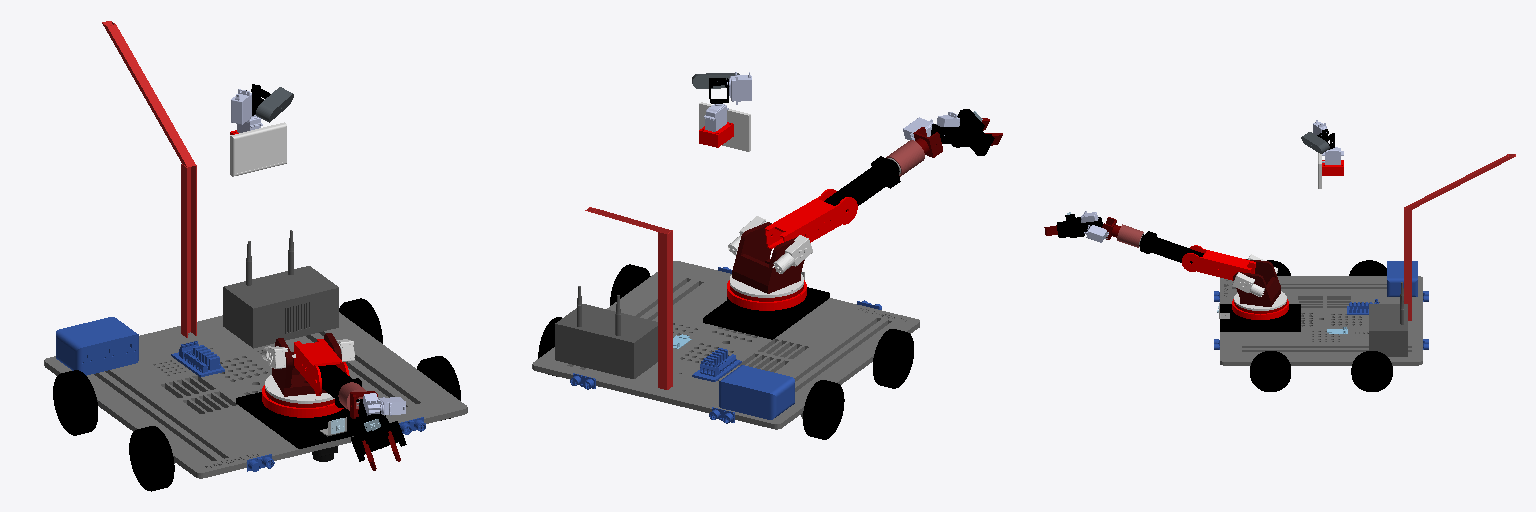
--- What the picture shows (computed from the rendered views, not written in the file) ---
The picture shows the robot from 3 angles, left to right: view 1: azimuth 30°, elevation 25°; view 2: azimuth 150°, elevation 25°; view 3: azimuth 270°, elevation 25°; orthographic projection.
Model nashbot with 57 links and 56 joints (9 revolute, 4 continuous, 2 prismatic, 41 fixed), rooted at link_base, posed all joints at 0 but 2 set to mid-range because 0 is outside their limits (gripper_slider2 = -0.0145, gripper_slider1 = -0.0145).
Links seen in each view (by area): view 1: link_base, link_jetson, link_power_line_mount, link_extension, link_display, link_wheel, link_wheel_2, link_arm_mount_base, link_arm3, link_arm2, link_pdb, link_wheel_4 (+7 smaller); view 2: link_base, link_jetson, link_extension, link_power_line_mount, link_arm2, link_arm3, link_arm_mount_base, link_wheel, link_wheel_2, link_arm4, link_display, link_pdb (+10 smaller); view 3: link_base, link_jetson, link_power_line_mount, link_arm3, link_wheel_3, link_wheel_4, link_arm2, link_arm_mount_base, link_extension, link_arm4.
Link boxes in pixels (x1,y1,x2,y2): link_base: (44,312,467,478); link_jetson: (223,230,338,348); link_power_line_mount: (102,21,196,337); link_extension: (56,317,138,375); link_display: (230,122,286,176); link_wheel: (129,426,174,491); link_wheel_2: (53,370,97,435); link_arm_mount_base: (236,392,359,448); link_arm3: (294,339,349,395); link_arm2: (272,333,341,396); link_pdb: (171,341,224,377); link_wheel_4: (417,356,460,420); link_base: (532,261,919,429); link_jetson: (555,286,657,378); link_extension: (719,365,794,419); link_power_line_mount: (585,207,672,389); link_arm2: (732,222,804,293); link_arm3: (765,189,857,248); link_arm_mount_base: (703,287,829,339); link_wheel: (873,329,913,388); link_wheel_2: (803,380,844,439); link_arm4: (824,166,887,211); link_display: (699,102,750,151); link_pdb: (692,348,741,381); link_base: (1220,276,1422,365); link_jetson: (1369,282,1407,356); link_power_line_mount: (1404,154,1515,320); link_arm3: (1182,245,1255,280); link_wheel_3: (1351,351,1392,391); link_wheel_4: (1250,351,1290,391); link_arm2: (1233,259,1280,306); link_arm_mount_base: (1220,304,1300,331); link_extension: (1387,261,1417,296); link_arm4: (1140,235,1203,263).
Size in the robot's own frame: 0.5534 by 1.16 by 0.5943 metres.
49 mesh visuals loaded from 38 distinct referenced files (36 binary STL); not drawn: 8 (file found but could not be loaded).

URDF robot description (nashbot):
<robot name="nashbot">
<link name="link_base">
<visual>
<origin xyz="-0.038894183933734866043 0.046155559346079830241 0" rpy="3.1554436208840472216e-30 -3.9443045261051879465e-29 -2.6289196771528403336e-28" />
<geometry>
<mesh filename="package://nashbot/description/link_base.stl"/>
</geometry>
<material name="link_base_material">
<color rgba="0.49803921568627451677 0.49803921568627451677 0.49803921568627451677 1.0"/>
</material>
</visual>
<collision>
<origin xyz="-0.038894183933734866043 0.046155559346079830241 0" rpy="3.1554436208840472216e-30 -3.9443045261051879465e-29 -2.6289196771528403336e-28" />
<geometry>
<mesh filename="package://nashbot/description/link_base.stl"/>
</geometry>
</collision>
<inertial>
<origin xyz="-0.036317144638637603726 0.045317821985827809461 0.0044534834689007414196" rpy="0 0 0"/>
<mass value="1.7554185880507504613" />
<inertia ixx="0.038591414973113906395" ixy="9.5265038422451096692e-05"  ixz="-1.9373757512126663555e-06" iyy="0.038219323473487644416" iyz="8.2432055649845211939e-07" izz="0.076738818657899804387" />
</inertial>
</link>

<link name="link_planetary_gear_motor">
<visual>
<origin xyz="0 0 -0.026817798965425687641" rpy="1.570796326794896558 1.570796326794896558 0" />
<geometry>
<mesh filename="package://nashbot/description/link_planetary_gear_motor.stl"/>
</geometry>
<material name="link_planetary_gear_motor_material">
<color rgba="0.58823529411764707842 0.58823529411764707842 0.6313725490196078205 1.0"/>
</material>
</visual>
<collision>
<origin xyz="0 0 -0.026817798965425687641" rpy="1.570796326794896558 1.570796326794896558 0" />
<geometry>
<mesh filename="package://nashbot/description/link_planetary_gear_motor.stl"/>
</geometry>
</collision>
<inertial>
<origin xyz="4.6360164020919494347e-11 8.8798397599322057136e-07 -0.029000518840529402459" rpy="0 0 0"/>
<mass value="0.16371460908246579513" />
<inertia ixx="4.9412215825825080682e-05" ixy="3.9662144375698252284e-13"  ixz="-2.6336340794043708182e-13" iyy="4.9418313465302970153e-05" iyz="-5.6989714436444879046e-09" izz="9.4495347188306969184e-06" />
</inertial>
</link>

<link name="link_wheel">
<visual>
<origin xyz="2.168404344971008868e-19 1.3877787807814456755e-17 0.012500000000000011102" rpy="1.570796326794896558 -0 -1.3877787807814459837e-17" />
<geometry>
<mesh filename="package://nashbot/description/link_wheel.stl"/>
</geometry>
<material name="link_wheel_material">
<color rgba="0 0 0 1.0"/>
</material>
</visual>
<collision>
<origin xyz="2.168404344971008868e-19 1.3877787807814456755e-17 0.012500000000000011102" rpy="1.570796326794896558 -0 -1.3877787807814459837e-17" />
<geometry>
<mesh filename="package://nashbot/description/link_wheel.stl"/>
</geometry>
</collision>
<inertial>
<origin xyz="-1.4309925165506553296e-18 9.7240667122958685928e-18 8.6736173798840354721e-18" rpy="0 0 0"/>
<mass value="0.21292341699643807518" />
<inertia ixx="0.00015092828535447894004" ixy="0"  ixz="-1.0199903934024893819e-37" iyy="0.00015092828535447894004" iyz="1.1610533830809600892e-35" izz="0.00027967704810516230869" />
</inertial>
</link>

<joint name="front_right_wheel" type="continuous">
<origin xyz="1.3877787807814456755e-17 0.00013236607255473313571 0.024200000000000054801" rpy="-2.424069566570910828e-15 -1.3601736821082903874e-14 1.4496119042768058627" />
<parent link="link_planetary_gear_motor" />
<child link="link_wheel" />
<axis xyz="0 0 1"/>
<limit effort="1" velocity="20" />
<joint_properties friction="0.0"/>
</joint>

<joint name="front_right_motor_mount" type="fixed">
<origin xyz="-0.27889418393372578109 -0.078844440653917546857 -0.0099999999999997868372" rpy="-1.570796326794896558 -6.3108872417683060394e-30 1.570796326794896558" />
<parent link="link_base" />
<child link="link_planetary_gear_motor" />
<axis xyz="0 0 1"/>
<limit effort="1" velocity="20" />
<joint_properties friction="0.0"/>
</joint>

<link name="link_planetary_gear_motor_2">
<visual>
<origin xyz="-0.0067500000000000059952 0 -0.026817798965425743152" rpy="1.570796326794896558 1.570796326794896558 0" />
<geometry>
<mesh filename="package://nashbot/description/link_planetary_gear_motor.stl"/>
</geometry>
<material name="link_planetary_gear_motor_material">
<color rgba="0.58823529411764707842 0.58823529411764707842 0.6313725490196078205 1.0"/>
</material>
</visual>
<collision>
<origin xyz="-0.0067500000000000059952 0 -0.026817798965425743152" rpy="1.570796326794896558 1.570796326794896558 0" />
<geometry>
<mesh filename="package://nashbot/description/link_planetary_gear_motor.stl"/>
</geometry>
</collision>
<inertial>
<origin xyz="-0.0067499999536398420236 8.8798397599322057136e-07 -0.02900051884052946144" rpy="0 0 0"/>
<mass value="0.16371460908246579513" />
<inertia ixx="4.9412215825825080682e-05" ixy="3.9662144375698252284e-13"  ixz="-2.6336340794043708182e-13" iyy="4.9418313465302970153e-05" iyz="-5.6989714436444879046e-09" izz="9.4495347188306969184e-06" />
</inertial>
</link>

<link name="link_wheel_2">
<visual>
<origin xyz="0 0 0.012500000000000011102" rpy="1.570796326794896558 -0 2.7755575615628913511e-17" />
<geometry>
<mesh filename="package://nashbot/description/link_wheel.stl"/>
</geometry>
<material name="link_wheel_material">
<color rgba="0 0 0 1.0"/>
</material>
</visual>
<collision>
<origin xyz="0 0 0.012500000000000011102" rpy="1.570796326794896558 -0 2.7755575615628913511e-17" />
<geometry>
<mesh filename="package://nashbot/description/link_wheel.stl"/>
</geometry>
</collision>
<inertial>
<origin xyz="-1.647832951047756409e-18 -4.1537210955185889329e-18 8.6736173798840354721e-18" rpy="0 0 0"/>
<mass value="0.21292341699643807518" />
<inertia ixx="0.00015092828535447899425" ixy="4.1891014366934596417e-21"  ixz="5.7518945733556605682e-37" iyy="0.00015092828535447899425" iyz="1.2385496453077608633e-35" izz="0.00027967704810516230869" />
</inertial>
</link>

<joint name="back_right_wheel" type="continuous">
<origin xyz="-0.0067500000000000059952 -2.2204460492503130808e-16 0.024199999999999999289" rpy="3.0878871338032691087e-15 2.0073922473881030536e-14 1.8062615792804408432" />
<parent link="link_planetary_gear_motor_2" />
<child link="link_wheel_2" />
<axis xyz="0 0 1"/>
<limit effort="1" velocity="20" />
<joint_properties friction="0.0"/>
</joint>

<joint name="back_right_motor_mount" type="fixed">
<origin xyz="-0.27889418393372578109 0.17115555934607420974 -0.010000000000000008882" rpy="-1.570796326794896558 -6.3108872417683060394e-30 1.570796326794896558" />
<parent link="link_base" />
<child link="link_planetary_gear_motor_2" />
<axis xyz="0 0 1"/>
<limit effort="1" velocity="20" />
<joint_properties friction="0.0"/>
</joint>

<link name="link_planetary_gear_motor_3">
<visual>
<origin xyz="0 0 -0.026817798965425743152" rpy="1.570796326794896558 1.570796326794896558 0" />
<geometry>
<mesh filename="package://nashbot/description/link_planetary_gear_motor.stl"/>
</geometry>
<material name="link_planetary_gear_motor_material">
<color rgba="0.58823529411764707842 0.58823529411764707842 0.6313725490196078205 1.0"/>
</material>
</visual>
<collision>
<origin xyz="0 0 -0.026817798965425743152" rpy="1.570796326794896558 1.570796326794896558 0" />
<geometry>
<mesh filename="package://nashbot/description/link_planetary_gear_motor.stl"/>
</geometry>
</collision>
<inertial>
<origin xyz="4.6360164020919494347e-11 8.8798397599322057136e-07 -0.02900051884052946144" rpy="0 0 0"/>
<mass value="0.16371460908246579513" />
<inertia ixx="4.9412215825825080682e-05" ixy="3.9662144375698252284e-13"  ixz="-2.6336340794043708182e-13" iyy="4.9418313465302970153e-05" iyz="-5.6989714436444879046e-09" izz="9.4495347188306969184e-06" />
</inertial>
</link>

<link name="link_wheel_3">
<visual>
<origin xyz="-2.7755575615628913511e-17 0 -0.012499999999999983347" rpy="-1.570796326794896558 -0 0" />
<geometry>
<mesh filename="package://nashbot/description/link_wheel.stl"/>
</geometry>
<material name="link_wheel_material">
<color rgba="0 0 0 1.0"/>
</material>
</visual>
<collision>
<origin xyz="-2.7755575615628913511e-17 0 -0.012499999999999983347" rpy="-1.570796326794896558 -0 0" />
<geometry>
<mesh filename="package://nashbot/description/link_wheel.stl"/>
</geometry>
</collision>
<inertial>
<origin xyz="-2.9403408566676666838e-17 4.1537210955185873922e-18 1.9081958235744878039e-17" rpy="0 0 0"/>
<mass value="0.21292341699643807518" />
<inertia ixx="0.00015092828535447894004" ixy="-2.6181883979334118059e-22"  ixz="-2.6545638048376429843e-37" iyy="0.00015092828535447894004" iyz="-1.50310778201777378e-38" izz="0.00027967704810516230869" />
</inertial>
</link>

<joint name="back_left_wheel" type="continuous">
<origin xyz="2.7755575615628913511e-17 0.00013236607255451282583 0.024199999999999971534" rpy="-3.1415926535897300553 7.9062755715504319236e-16 -0.013799414977259887027" />
<parent link="link_planetary_gear_motor_3" />
<child link="link_wheel_3" />
<axis xyz="0 0 1"/>
<limit effort="1" velocity="20" />
<joint_properties friction="0.0"/>
</joint>

<joint name="back_left_motor_mount" type="fixed">
<origin xyz="0.20110581606625849149 0.17115555934607412647 -0.010000000000000230926" rpy="1.570796326794896558 -9.4663308626523462545e-30 1.5707963267948972241" />
<parent link="link_base" />
<child link="link_planetary_gear_motor_3" />
<axis xyz="0 0 1"/>
<limit effort="1" velocity="20" />
<joint_properties friction="0.0"/>
</joint>

<link name="link_planetary_gear_motor_4">
<visual>
<origin xyz="1.3877787807814456755e-17 0 -0.026817798965425743152" rpy="1.570796326794896558 1.570796326794896558 0" />
<geometry>
<mesh filename="package://nashbot/description/link_planetary_gear_motor.stl"/>
</geometry>
<material name="link_planetary_gear_motor_material">
<color rgba="0.58823529411764707842 0.58823529411764707842 0.6313725490196078205 1.0"/>
</material>
</visual>
<collision>
<origin xyz="1.3877787807814456755e-17 0 -0.026817798965425743152" rpy="1.570796326794896558 1.570796326794896558 0" />
<geometry>
<mesh filename="package://nashbot/description/link_planetary_gear_motor.stl"/>
</geometry>
</collision>
<inertial>
<origin xyz="4.6360177898707302161e-11 8.8798397599322057136e-07 -0.02900051884052946144" rpy="0 0 0"/>
<mass value="0.16371460908246579513" />
<inertia ixx="4.9412215825825080682e-05" ixy="3.9662144375698252284e-13"  ixz="-2.6336340794043708182e-13" iyy="4.9418313465302970153e-05" iyz="-5.6989714436444879046e-09" izz="9.4495347188306969184e-06" />
</inertial>
</link>

<link name="link_wheel_4">
<visual>
<origin xyz="0 0 0.012500000000000011102" rpy="1.570796326794896558 2.4651903288156618919e-32 0" />
<geometry>
<mesh filename="package://nashbot/description/link_wheel.stl"/>
</geometry>
<material name="link_wheel_material">
<color rgba="0 0 0 1.0"/>
</material>
</visual>
<collision>
<origin xyz="0 0 0.012500000000000011102" rpy="1.570796326794896558 2.4651903288156618919e-32 0" />
<geometry>
<mesh filename="package://nashbot/description/link_wheel.stl"/>
</geometry>
</collision>
<inertial>
<origin xyz="-1.647832951047756409e-18 -4.1537210955185881625e-18 8.6736173798840354721e-18" rpy="0 0 0"/>
<mass value="0.21292341699643807518" />
<inertia ixx="0.00015092828535447899425" ixy="1.0472753591733649104e-21"  ixz="-3.8104635244895458142e-36" iyy="0.00015092828535447899425" iyz="-1.568337011082917177e-35" izz="0.00027967704810516230869" />
</inertial>
</link>

<joint name="front_left_wheel" type="continuous">
<origin xyz="0 0.00013236607255473487044 0.024200000000000027045" rpy="3.141592653589793116 1.5549748421209326805e-16 1.5124586876682719616" />
<parent link="link_planetary_gear_motor_4" />
<child link="link_wheel_4" />
<axis xyz="0 0 1"/>
<limit effort="1" velocity="20" />
<joint_properties friction="0.0"/>
</joint>

<joint name="front_left_motor_mount" type="fixed">
<origin xyz="0.201105816066258547 -0.07884444065391765788 -0.010000000000000008882" rpy="1.570796326794896558 -9.4663308626523462545e-30 1.5707963267948972241" />
<parent link="link_base" />
<child link="link_planetary_gear_motor_4" />
<axis xyz="0 0 1"/>
<limit effort="1" velocity="20" />
<joint_properties friction="0.0"/>
</joint>

<link name="link_camera_pole">
<visual>
<origin xyz="0 0 0" rpy="3.141592653589793116 -0 5.1757848647133557762e-46" />
<geometry>
<mesh filename="package://nashbot/description/link_camera_pole.stl"/>
</geometry>
<material name="link_camera_pole_material">
<color rgba="0 0 0 1.0"/>
</material>
</visual>
<collision>
<origin xyz="0 0 0" rpy="3.141592653589793116 -0 5.1757848647133557762e-46" />
<geometry>
<mesh filename="package://nashbot/description/link_camera_pole.stl"/>
</geometry>
</collision>
<inertial>
<origin xyz="-8.6895599421206154125e-19 -1.1332899522663500266e-18 -0.19999999999999998335" rpy="0 0 0"/>
<mass value="0.15707963267948968356" />
<inertia ixx="0.002098322093210182749" ixy="-1.6708405740728485944e-49"  ixz="0" iyy="0.002098322093210182749" iyz="0" izz="7.8539816339744905176e-06" />
</inertial>
</link>

<link name="link_camera_mount">
<visual>
<origin xyz="0 0 0.4000000000000000222" rpy="3.141592653589793116 -0 1.0351569729450978201e-45" />
<geometry>
<mesh filename="package://nashbot/description/link_camera_mount.stl"/>
</geometry>
<material name="link_camera_mount_material">
<color rgba="1 0 0 1.0"/>
</material>
</visual>
<collision>
<origin xyz="0 0 0.4000000000000000222" rpy="3.141592653589793116 -0 1.0351569729450978201e-45" />
<geometry>
<mesh filename="package://nashbot/description/link_camera_mount.stl"/>
</geometry>
</collision>
<inertial>
<origin xyz="6.6098729239144476141e-06 -2.424405140155358335e-05 -0.012499999999999955591" rpy="0 0 0"/>
<mass value="0.05185638046932426054" />
<inertia ixx="1.6736544580269791969e-05" ixy="-1.501667713275117338e-10"  ixz="0" iyy="9.7338277476605398472e-06" iyz="0" izz="2.1068666029042382024e-05" />
</inertial>
</link>

<link name="link_servo_mg">
<visual>
<origin xyz="0 0 0" rpy="-1.570796326794896558 -0 -1.1642135434807989483e-45" />
<geometry>
<mesh filename="package://nashbot/description/link_servo_mg.stl"/>
</geometry>
<material name="link_servo_mg_material">
<color rgba="0.79607843137254896693 0.82352941176470584317 0.9372549019607843146 1.0"/>
</material>
</visual>
<collision>
<origin xyz="0 0 0" rpy="-1.570796326794896558 -0 -1.1642135434807989483e-45" />
<geometry>
<mesh filename="package://nashbot/description/link_servo_mg.stl"/>
</geometry>
</collision>
<inertial>
<origin xyz="-1.5748677729080855765e-11 -0.0002646763350802676623 -0.019605366569395200199" rpy="0 0 0"/>
<mass value="0.26063138106081079615" />
<inertia ixx="7.0719662757425395382e-05" ixy="-3.4286267461467582895e-12"  ixz="-7.5224114922896809951e-13" iyy="4.2001447207912350769e-05" iyz="-4.6721488492824280798e-07" izz="4.6556191039109627344e-05" />
</inertial>
</link>

<link name="link_camservo_m1">
<visual>
<origin xyz="-0.064767859876155853271 -5.2041704279304212832e-18 0.42340000000000005409" rpy="3.141592653589793116 -0 -5.5511151231257814695e-17" />
<geometry>
<mesh filename="package://nashbot/description/link_camservo_m1.stl"/>
</geometry>
<material name="link_camservo_m1_material">
<color rgba="0 0 0 1.0"/>
</material>
</visual>
<collision>
<origin xyz="-0.064767859876155853271 -5.2041704279304212832e-18 0.42340000000000005409" rpy="3.141592653589793116 -0 -5.5511151231257814695e-17" />
<geometry>
<mesh filename="package://nashbot/description/link_camservo_m1.stl"/>
</geometry>
</collision>
<inertial>
<origin xyz="2.0512893336155357815e-06 1.2916658183236249459e-17 -0.015741275663100573468" rpy="0 0 0"/>
<mass value="0.0035384613163860329475" />
<inertia ixx="1.3520111013862276132e-06" ixy="-7.5051692715390328015e-23"  ixz="-4.289093912299085776e-13" iyy="7.2414223788426236098e-07" iyz="2.3809254076607306802e-29" izz="7.8914424131184530706e-07" />
</inertial>
</link>

<link name="link_servo_mg_2">
<visual>
<origin xyz="0 -0.010149999999999992362 -0.040700000000000007006" rpy="1.570796326794896558 -5.5511151231257808532e-17 0" />
<geometry>
<mesh filename="package://nashbot/description/link_servo_mg.stl"/>
</geometry>
<material name="link_servo_mg_material">
<color rgba="0.79607843137254896693 0.82352941176470584317 0.9372549019607843146 1.0"/>
</material>
</visual>
<collision>
<origin xyz="0 -0.010149999999999992362 -0.040700000000000007006" rpy="1.570796326794896558 -5.5511151231257808532e-17 0" />
<geometry>
<mesh filename="package://nashbot/description/link_servo_mg.stl"/>
</geometry>
</collision>
<inertial>
<origin xyz="-1.5748678817397327683e-11 -0.009885323664919724862 -0.021094633430604803337" rpy="0 0 0"/>
<mass value="0.26063138106081079615" />
<inertia ixx="7.0719662757425422487e-05" ixy="3.4286267461726949254e-12"  ixz="7.5224115057031063009e-13" iyy="4.2001447207912350769e-05" iyz="-4.6721488492824291386e-07" izz="4.655619103910965445e-05" />
</inertial>
</link>

<link name="link_camservo_m2">
<visual>
<origin xyz="-0.08380990305282659536 -0.45295193791389465332 -0.013222478037231722228" rpy="-1.570796326794896558 -4.2387282760585587089e-17 0" />
<geometry>
<mesh filename="package://nashbot/description/link_camservo_m2.stl"/>
</geometry>
<material name="link_camservo_m2_material">
<color rgba="0 0 0 1.0"/>
</material>
</visual>
<collision>
<origin xyz="-0.08380990305282659536 -0.45295193791389465332 -0.013222478037231722228" rpy="-1.570796326794896558 -4.2387282760585587089e-17 0" />
<geometry>
<mesh filename="package://nashbot/description/link_camservo_m2.stl"/>
</geometry>
</collision>
<inertial>
<origin xyz="6.0868553530823987785e-09 -0.015262248583463366991 -0.013222478037231644166" rpy="0 0 0"/>
<mass value="0.0019317229854466744319" />
<inertia ixx="5.1758431260979297283e-07" ixy="1.5673206372147862108e-13"  ixz="1.6294814814086299972e-23" iyy="2.7939953019740575608e-07" iyz="2.2074407022923316909e-23" izz="2.9461796162978862592e-07" />
</inertial>
</link>

<link name="link_camera">
<visual>
<origin xyz="0.035000000000000024147 0.012000000000000010658 -2.7755575615628913511e-17" rpy="3.141592653589793116 1.1693126230299731647e-17 8.5979552118840875419e-18" />
<geometry>
<mesh filename="package://nashbot/description/link_camera.stl"/>
</geometry>
<material name="link_camera_material">
<color rgba="0.34901960784313723618 0.37647058823529411242 0.4000000000000000222 1.0"/>
</material>
</visual>
<collision>
<origin xyz="0.035000000000000024147 0.012000000000000010658 -2.7755575615628913511e-17" rpy="3.141592653589793116 1.1693126230299731647e-17 8.5979552118840875419e-18" />
<geometry>
<mesh filename="package://nashbot/description/link_camera.stl"/>
</geometry>
</collision>
<inertial>
<origin xyz="6.5715523994466784607e-05 1.1151436078376335371e-17 -0.012452720306549079979" rpy="0 0 0"/>
<mass value="0.38286436898885872759" />
<inertia ixx="3.7903988598626727619e-05" ixy="-6.4415629667358480372e-21"  ixz="7.5411954607120148351e-08" iyy="0.00024397425804645873188" iyz="-1.1788456516480044015e-22" izz="0.00024183895818068675584" />
</inertial>
</link>

<joint name="depthcam" type="fixed">
<origin xyz="-1.6345413365592698085e-06 -0.029231937913894612269 -0.013222478037231732637" rpy="-1.5707963267948996666 1.570796326794896558 0" />
<parent link="link_camservo_m2" />
<child link="link_camera" />
<axis xyz="0 0 1"/>
<limit effort="1" velocity="20" />
<joint_properties friction="0.0"/>
</joint>

<joint name="depthcam_link2" type="revolute">
<origin xyz="1.3877787807814456755e-17 1.1102230246251565404e-16 0.0035500000000000140818" rpy="-3.141592653589788231 -3.9881607083193811201e-15 1.8819956131529709253" />
<parent link="link_servo_mg_2" />
<child link="link_camservo_m2" />
<axis xyz="0 0 1"/>
<limit effort="1" velocity="20" lower="-1.570796326794896558" upper="1.570796326794896558"/>
<joint_properties friction="0.0"/>
</joint>

<joint name="depthcam_servo2" type="fixed">
<origin xyz="2.0431766708101095631e-06 -0.016528097546539638474 -0.034229054784774615161" rpy="-1.57079632679489678 7.3027692487011614622e-18 -1.1102230246251530892e-16" />
<parent link="link_camservo_m1" />
<child link="link_servo_mg_2" />
<axis xyz="0 0 1"/>
<limit effort="1" velocity="20" />
<joint_properties friction="0.0"/>
</joint>

<joint name="depthcam_link1" type="revolute">
<origin xyz="-6.9388939039072283776e-18 -0.010150000000000006239 -0.044750000000000123013" rpy="-2.9184472069012738334e-16 2.6922340728521836213e-16 0.97275063961304364391" />
<parent link="link_servo_mg" />
<child link="link_camservo_m1" />
<axis xyz="0 0 1"/>
<limit effort="1" velocity="20" lower="-1.570796326794896558" upper="1.570796326794896558"/>
<joint_properties friction="0.0"/>
</joint>

<joint name="depthcam_servo1" type="fixed">
<origin xyz="5.5511151231257827021e-17 0 -0.025000000000000022204" rpy="4.3617391034891754833e-16 5.3309457331573694348e-17 -3.141592653589793116" />
<parent link="link_camera_mount" />
<child link="link_servo_mg" />
<axis xyz="0 0 1"/>
<limit effort="1" velocity="20" />
<joint_properties friction="0.0"/>
</joint>

<link name="link_display">
<visual>
<origin xyz="0 0 0" rpy="-3.141592653589793116 -0 0" />
<geometry>
<mesh filename="package://nashbot/description/link_display.stl"/>
</geometry>
<material name="link_display_material">
<color rgba="0.90196078431372550543 0.90196078431372550543 0.90196078431372550543 1.0"/>
</material>
</visual>
<collision>
<origin xyz="0 0 0" rpy="-3.141592653589793116 -0 0" />
<geometry>
<mesh filename="package://nashbot/description/link_display.stl"/>
</geometry>
</collision>
<inertial>
<origin xyz="4.0904477221227041164e-09 1.3966962692380728488e-09 -0.0045610556843209085903" rpy="0 0 0"/>
<mass value="0.07400407337253489537" />
<inertia ixx="6.2549872349323664138e-05" ixy="-6.9969589148947584378e-12"  ixz="-2.2480618274839460925e-13" iyy="3.0966478872211573067e-05" iyz="2.1520166742172912019e-13" izz="9.2484010822233453809e-05" />
</inertial>
</link>

<joint name="display" type="fixed">
<origin xyz="5.5511151231257827021e-17 0.027086138725280789474 -0.012500000000000066613" rpy="1.57079632679489678 1.570796326794896558 0" />
<parent link="link_camera_mount" />
<child link="link_display" />
<axis xyz="0 0 1"/>
<limit effort="1" velocity="20" />
<joint_properties friction="0.0"/>
</joint>

<joint name="depthcam_servo_mount" type="fixed">
<origin xyz="2.7755575615628913511e-17 0 -0.39999999999999980016" rpy="-1.2617474596870634083e-17 -1.2891945871787910814e-42 1.4001445930311992858e-31" />
<parent link="link_camera_pole" />
<child link="link_camera_mount" />
<axis xyz="0 0 1"/>
<limit effort="1" velocity="20" />
<joint_properties friction="0.0"/>
</joint>

<joint name="depthcam_mount" type="fixed">
<origin xyz="-0.035165634782156757199 0.074728912423014520749 0.010000000000000008882" rpy="3.141592653589793116 -4.102076707149459812e-29 -2.630319821745876056e-28" />
<parent link="link_base" />
<child link="link_camera_pole" />
<axis xyz="0 0 1"/>
<limit effort="1" velocity="20" />
<joint_properties friction="0.0"/>
</joint>

<link name="link_arm_mount_base">
<visual>
<origin xyz="0.069996574328592908731 0.099666585571470497906 -1.7347234759768070944e-18" rpy="-3.141592653589793116 -5.6051938572992682837e-45 5.3748535133640707479e-46" />
<geometry>
<mesh filename="package://nashbot/description/link_arm_mount_base.stl"/>
</geometry>
<material name="link_arm_mount_base_material">
<color rgba="0 0 0 1.0"/>
</material>
</visual>
<collision>
<origin xyz="0.069996574328592908731 0.099666585571470497906 -1.7347234759768070944e-18" rpy="-3.141592653589793116 -5.6051938572992682837e-45 5.3748535133640707479e-46" />
<geometry>
<mesh filename="package://nashbot/description/link_arm_mount_base.stl"/>
</geometry>
</collision>
<inertial>
<origin xyz="1.3877787807814456755e-17 -1.3877787807814456755e-17 -0.0050000000000000018388" rpy="0 0 0"/>
<mass value="0.34676843776409471687" />
<inertia ixx="0.001147812875711951312" ixy="9.5429245679296298895e-08"  ixz="1.4703204229440754947e-40" iyy="0.0005717053455846199915" iyz="8.8085155554213860889e-37" izz="0.0017137387473338365484" />
</inertial>
</link>

<link name="link_wormgearmotor">
<visual>
<origin xyz="5.5511151231257827021e-17 1.3877787807814456755e-17 -0.039199999999999998734" rpy="1.570796326794896558 -7.4899662021316802488e-16 -9.9486717144935743219e-46" />
<geometry>
<mesh filename="package://nashbot/description/link_wormgearmotor.stl"/>
</geometry>
<material name="link_wormgearmotor_material">
<color rgba="0.91764705882352937127 0.91764705882352937127 0.91764705882352937127 1.0"/>
</material>
</visual>
<collision>
<origin xyz="5.5511151231257827021e-17 1.3877787807814456755e-17 -0.039199999999999998734" rpy="1.570796326794896558 -7.4899662021316802488e-16 -9.9486717144935743219e-46" />
<geometry>
<mesh filename="package://nashbot/description/link_wormgearmotor.stl"/>
</geometry>
</collision>
<inertial>
<origin xyz="0.01227583112114756167 -0.00018146365526524344002 -0.012751006890205916419" rpy="0 0 0"/>
<mass value="0.2858675528412418787" />
<inertia ixx="3.6344599448181403776e-05" ixy="2.2893917968346094537e-06"  ixz="-4.1274865069703853439e-06" iyy="0.00011286967916682720851" iyz="-6.3114747963255504387e-08" izz="0.00012232130776055024951" />
</inertial>
</link>

<link name="link_arm1_base">
<visual>
<origin xyz="-0.18120000000000002771 1.3877787807814456755e-17 0.002499999999999998751" rpy="3.141592653589793116 -1.9721522630525295135e-31 -2.3355381408890229068e-33" />
<geometry>
<mesh filename="package://nashbot/description/link_arm1_base.stl"/>
</geometry>
<material name="link_arm1_base_material">
<color rgba="0 0 0 1.0"/>
</material>
</visual>
<collision>
<origin xyz="-0.18120000000000002771 1.3877787807814456755e-17 0.002499999999999998751" rpy="3.141592653589793116 -1.9721522630525295135e-31 -2.3355381408890229068e-33" />
<geometry>
<mesh filename="package://nashbot/description/link_arm1_base.stl"/>
</geometry>
</collision>
<inertial>
<origin xyz="0.0008502916404122817795 0.0053539544412900142573 -0.00013287985028108580121" rpy="0 0 0"/>
<mass value="0.060390944748639381612" />
<inertia ixx="0.00012972718350131204573" ixy="3.4126743913357184568e-06"  ixz="-8.934537508101717352e-08" iyy="0.00015063558623331518458" iyz="-5.6257293967016866432e-07" izz="0.0002737594807901266164" />
</inertial>
</link>

<link name="link_arm1">
<visual>
<origin xyz="-6.9388939039072283776e-18 -0.067724570631980909874 0" rpy="3.141592653589793116 -0 1.440709983633952551e-44" />
<geometry>
<mesh filename="package://nashbot/description/link_arm1.stl"/>
</geometry>
<material name="link_arm1_material">
<color rgba="1 0 0 1.0"/>
</material>
</visual>
<collision>
<origin xyz="-6.9388939039072283776e-18 -0.067724570631980909874 0" rpy="3.141592653589793116 -0 1.440709983633952551e-44" />
<geometry>
<mesh filename="package://nashbot/description/link_arm1.stl"/>
</geometry>
</collision>
<inertial>
<origin xyz="-8.7561752032443757439e-18 -0.067724570631980909874 -0.0074999999999999927836" rpy="0 0 0"/>
<mass value="0.039230638261702789615" />
<inertia ixx="9.0223776933653459771e-05" ixy="3.3227500028981868219e-48"  ixz="0" iyy="9.0223776933653419114e-05" iyz="0" izz="0.00017897640493249301571" />
</inertial>
</link>

<link name="link_arm1_bearing">
<visual>
<origin xyz="-0.46200000000000002176 2.6020852139652106416e-18 0.0074999999999999997224" rpy="3.141592653589793116 -0 5.5511151231258344711e-17" />
<geometry>
<mesh filename="package://nashbot/description/link_arm1_bearing.stl"/>
</geometry>
<material name="link_arm1_bearing_material">
<color rgba="0.67058823529411759612 0.0078431372549019606755 0 1.0"/>
</material>
</visual>
<collision>
<origin xyz="-0.46200000000000002176 2.6020852139652106416e-18 0.0074999999999999997224" rpy="3.141592653589793116 -0 5.5511151231258344711e-17" />
<geometry>
<mesh filename="package://nashbot/description/link_arm1_bearing.stl"/>
</geometry>
</collision>
<inertial>
<origin xyz="-5.5511151231257827021e-17 2.2385396562981767681e-17 6.9388939039072283776e-18" rpy="0 0 0"/>
<mass value="0.036285395148962132361" />
<inertia ixx="7.1659046109362773834e-05" ixy="7.37270056835738725e-35"  ixz="7.8449774428148750688e-52" iyy="7.1659046109362746729e-05" iyz="-1.4132254995276532801e-35" izz="0.00014195738990063953519" />
</inertial>
</link>

<link name="link_arm1_top_mount">
<visual>
<origin xyz="-2.3828835807315762452e-08 7.7936529123750694636e-06 0" rpy="3.141592653589793116 -0 5.5511151231258332385e-17" />
<geometry>
<mesh filename="package://nashbot/description/link_arm1_top_mount.stl"/>
</geometry>
<material name="link_arm1_top_mount_material">
<color rgba="0.91764705882352937127 0.91764705882352937127 0.91764705882352937127 1.0"/>
</material>
</visual>
<collision>
<origin xyz="-2.3828835807315762452e-08 7.7936529123750694636e-06 0" rpy="3.141592653589793116 -0 5.5511151231258332385e-17" />
<geometry>
<mesh filename="package://nashbot/description/link_arm1_top_mount.stl"/>
</geometry>
</collision>
<inertial>
<origin xyz="6.8470199533287299555e-05 2.5740301884121303076e-06 -0.0025000000000000004857" rpy="0 0 0"/>
<mass value="0.079143117156963080361" />
<inertia ixx="8.5587711589686256007e-05" ixy="2.8575495751657775314e-09"  ixz="1.6977431924416069317e-35" iyy="8.6916523102602418838e-05" iyz="8.4070828138864003977e-36" izz="0.00017217447170413463704" />
</inertial>
</link>

<link name="link_arm2">
<visual>
<origin xyz="0.16170000000000003815 -7.3725747729014301513e-18 0" rpy="3.141592653589793116 -0 5.0076768796390859924e-31" />
<geometry>
<mesh filename="package://nashbot/description/link_arm2.stl"/>
</geometry>
<material name="link_arm2_material">
<color rgba="0.31372549019607842702 0.050980392156862744391 0.050980392156862744391 1.0"/>
</material>
</visual>
<collision>
<origin xyz="0.16170000000000003815 -7.3725747729014301513e-18 0" rpy="3.141592653589793116 -0 5.0076768796390859924e-31" />
<geometry>
<mesh filename="package://nashbot/description/link_arm2.stl"/>
</geometry>
</collision>
<inertial>
<origin xyz="-0.0029386199614074293152 -9.3020940628449851802e-18 -0.032023427626418972392" rpy="0 0 0"/>
<mass value="0.22334489095979861983" />
<inertia ixx="0.00040225563338787005598" ixy="1.567625747172721312e-20"  ixz="-3.7256862176523443343e-05" iyy="0.00028239834923293234302" iyz="2.4596275531146985913e-35" izz="0.00043864065746248664902" />
</inertial>
</link>

<link name="link_wormgearmotor_2">
<visual>
<origin xyz="-3.4429564691740299764e-05 9.5955306764913816941e-05 -0.01000000000000001929" rpy="1.57079632679489678 9.7118156584534253266e-17 5.5511151231257839347e-17" />
<geometry>
<mesh filename="package://nashbot/description/link_wormgearmotor.stl"/>
</geometry>
<material name="link_wormgearmotor_material">
<color rgba="0.91764705882352937127 0.91764705882352937127 0.91764705882352937127 1.0"/>
</material>
</visual>
<collision>
<origin xyz="-3.4429564691740299764e-05 9.5955306764913816941e-05 -0.01000000000000001929" rpy="1.57079632679489678 9.7118156584534253266e-17 5.5511151231257839347e-17" />
<geometry>
<mesh filename="package://nashbot/description/link_wormgearmotor.stl"/>
</geometry>
</collision>
<inertial>
<origin xyz="0.012241401556455781471 -8.5508348500350290686e-05 0.016448993109794054351" rpy="0 0 0"/>
<mass value="0.2858675528412418787" />
<inertia ixx="3.6344599448181390223e-05" ixy="2.289391796834605642e-06"  ixz="-4.1274865069703285927e-06" iyy="0.0001128696791668271814" iyz="-6.3114747963257860198e-08" izz="0.00012232130776055024951" />
</inertial>
</link>

<joint name="wormmotor1_fixed" type="fixed">
<origin xyz="-0.033380152669139892541 -0.035000000000000017208 -0.066448956727981595138" rpy="1.570796326794901443 -0.34906585039886572908 9.2342611865085384893e-17" />
<parent link="link_arm2" />
<child link="link_wormgearmotor_2" />
<axis xyz="0 0 1"/>
<limit effort="1" velocity="20" />
<joint_properties friction="0.0"/>
</joint>

<link name="link_arm3">
<visual>
<origin xyz="0.25509999999999999343 -0.32916826553344719075 -0.016700000000000006506" rpy="-1.570796326794896558 5.8211188669281776264e-17 0" />
<geometry>
<mesh filename="package://nashbot/description/link_arm3.stl"/>
</geometry>
<material name="link_arm3_material">
<color rgba="1 0 0 1.0"/>
</material>
</visual>
<collision>
<origin xyz="0.25509999999999999343 -0.32916826553344719075 -0.016700000000000006506" rpy="-1.570796326794896558 5.8211188669281776264e-17 0" />
<geometry>
<mesh filename="package://nashbot/description/link_arm3.stl"/>
</geometry>
</collision>
<inertial>
<origin xyz="-1.7158216390478209235e-06 -0.067149028525630982678 -0.024991579175722235251" rpy="0 0 0"/>
<mass value="0.11985667013718158402" />
<inertia ixx="0.00029349311029036823182" ixy="1.6328579926200277799e-08"  ixz="1.8602403472259710136e-10" iyy="7.113395208559840084e-05" iyz="-8.0684836240281447484e-08" izz="0.00027459244585053031252" />
</inertial>
</link>

<link name="link_arm4">
<visual>
<origin xyz="0.20099999999999998423 -0.18399999999999994138 -0.24900000000000002687" rpy="-1.570796326794896558 -3.2388123040884122917e-18 -2.7755575615628919674e-17" />
<geometry>
<mesh filename="package://nashbot/description/link_arm4.stl"/>
</geometry>
<material name="link_arm4_material">
<color rgba="0 0 0 1.0"/>
</material>
</visual>
<collision>
<origin xyz="0.20099999999999998423 -0.18399999999999994138 -0.24900000000000002687" rpy="-1.570796326794896558 -3.2388123040884122917e-18 -2.7755575615628919674e-17" />
<geometry>
<mesh filename="package://nashbot/description/link_arm4.stl"/>
</geometry>
</collision>
<inertial>
<origin xyz="2.7755575615628913511e-17 -0.061070940604242618388 -0.015000000000000041078" rpy="0 0 0"/>
<mass value="0.084730816987227688952" />
<inertia ixx="0.00016011296227034767454" ixy="-3.3990045802041134056e-21"  ixz="6.8170276643245168262e-22" iyy="1.882545809182242677e-05" iyz="1.965692903542717808e-22" izz="0.00015951186882638397711" />
</inertial>
</link>

<link name="link_wrist_mid">
<visual>
<origin xyz="-0.058799999999999977285 0.012500000000000066613 0.015999999999999982986" rpy="1.570796326794896558 1.570796326794896336 0" />
<geometry>
<mesh filename="package://nashbot/description/link_wrist_mid.stl"/>
</geometry>
<material name="link_wrist_mid_material">
<color rgba="0 0 0 1.0"/>
</material>
</visual>
<collision>
<origin xyz="-0.058799999999999977285 0.012500000000000066613 0.015999999999999982986" rpy="1.570796326794896558 1.570796326794896336 0" />
<geometry>
<mesh filename="package://nashbot/description/link_wrist_mid.stl"/>
</geometry>
</collision>
<inertial>
<origin xyz="2.0611710513765087918e-17 0.0051151343140879348276 0.015999999999999996864" rpy="0 0 0"/>
<mass value="0.025315413537536853722" />
<inertia ixx="7.864055029639285455e-06" ixy="2.6059863478095244496e-22"  ixz="-4.8073525793830859346e-23" iyy="9.3890553159420575828e-06" iyz="-7.234567760099731654e-23" izz="8.0187605486312197803e-06" />
</inertial>
</link>

<link name="link_wrist_base_bearing">
<visual>
<origin xyz="1.3877787807814456755e-17 -1.3877787807814456755e-17 0.0049999999999999489297" rpy="-3.141592653589793116 -2.7755575615628913511e-17 5.5511151231257827021e-17" />
<geometry>
<mesh filename="package://nashbot/description/link_wrist_base_bearing.stl"/>
</geometry>
<material name="link_wrist_base_bearing_material">
<color rgba="0.64705882352941179736 0.64705882352941179736 0.64705882352941179736 1.0"/>
</material>
</visual>
<collision>
<origin xyz="1.3877787807814456755e-17 -1.3877787807814456755e-17 0.0049999999999999489297" rpy="-3.141592653589793116 -2.7755575615628913511e-17 5.5511151231257827021e-17" />
<geometry>
<mesh filename="package://nashbot/description/link_wrist_base_bearing.stl"/>
</geometry>
</collision>
<inertial>
<origin xyz="1.552263607805293812e-17 -1.5385010874302467534e-17 -5.0306980803327399575e-17" rpy="0 0 0"/>
<mass value="0.0023389497908041681322" />
<inertia ixx="3.3473362730383554403e-07" ixy="1.469367938527859385e-38"  ixz="2.6790191881512308083e-23" iyy="3.3473362730383527933e-07" iyz="2.7872173511176042996e-23" izz="6.3048475809426779847e-07" />
</inertial>
</link>

<joint name="arm_wrist_bearing_mount" type="revolute">
<origin xyz="0 0.023400000000000031886 0.01600000000000002115" rpy="1.5707963267948974462 -0.52290389070105258718 3.1415926535897540361" />
<parent link="link_wrist_mid" />
<child link="link_wrist_base_bearing" />
<axis xyz="0 0 1"/>
<limit effort="1" velocity="20" lower="-3.141592653589793116" upper="3.141592653589793116"/>
<joint_properties friction="0.0"/>
</joint>

<link name="link_planetary_gear_motor_5">
<visual>
<origin xyz="2.9490299091605720605e-17 1.3877787807814456755e-17 0.006757201034574222831" rpy="1.570796326794896558 1.570796326794896558 0" />
<geometry>
<mesh filename="package://nashbot/description/link_planetary_gear_motor.stl"/>
</geometry>
<material name="link_planetary_gear_motor_material">
<color rgba="0.58823529411764707842 0.58823529411764707842 0.6313725490196078205 1.0"/>
</material>
</visual>
<collision>
<origin xyz="2.9490299091605720605e-17 1.3877787807814456755e-17 0.006757201034574222831" rpy="1.570796326794896558 1.570796326794896558 0" />
<geometry>
<mesh filename="package://nashbot/description/link_planetary_gear_motor.stl"/>
</geometry>
</collision>
<inertial>
<origin xyz="4.6360193325702906104e-11 8.8798397600709825329e-07 0.0045744811594705045432" rpy="0 0 0"/>
<mass value="0.16371460908246579513" />
<inertia ixx="4.9412215825825080682e-05" ixy="3.9662144320570279334e-13"  ixz="-2.6336340651019444582e-13" iyy="4.9418313465302956601e-05" iyz="-5.6989714436444887318e-09" izz="9.4495347188307003065e-06" />
</inertial>
</link>

<link name="link_motor_horn">
<visual>
<origin xyz="0 0 0.016300000000000092193" rpy="3.141592653589793116 -0 0" />
<geometry>
<mesh filename="package://nashbot/description/link_motor_horn.stl"/>
</geometry>
<material name="link_motor_horn_material">
<color rgba="0.76862745098039220171 0.88627450980392152857 0.95294117647058818044 1.0"/>
</material>
</visual>
<collision>
<origin xyz="0 0 0.016300000000000092193" rpy="3.141592653589793116 -0 0" />
<geometry>
<mesh filename="package://nashbot/description/link_motor_horn.stl"/>
</geometry>
</collision>
<inertial>
<origin xyz="-3.0544705388568799672e-19 -1.2900025497238170421e-18 -0.0019999999999999081013" rpy="0 0 0"/>
<mass value="0.0015482237069527797838" />
<inertia ixx="5.4665677864642610904e-08" ixy="3.7931933888792510999e-25"  ixz="-2.36885098341918903e-41" iyy="5.4665677864642637374e-08" iyz="7.8357295990823697955e-25" izz="1.0520275917741118816e-07" />
</inertial>
</link>

<link name="link_wrist_base">
<visual>
<origin xyz="2.168404344971008868e-17 1.3877787807814456755e-17 0.013600000000000056488" rpy="3.141592653589793116 3.2959746043559334794e-17 -2.0816681711721685133e-17" />
<geometry>
<mesh filename="package://nashbot/description/link_wrist_base.stl"/>
</geometry>
<material name="link_wrist_base_material">
<color rgba="0.6313725490196078205 0.31764705882352939348 0.31764705882352939348 1.0"/>
</material>
</visual>
<collision>
<origin xyz="2.168404344971008868e-17 1.3877787807814456755e-17 0.013600000000000056488" rpy="3.141592653589793116 3.2959746043559334794e-17 -2.0816681711721685133e-17" />
<geometry>
<mesh filename="package://nashbot/description/link_wrist_base.stl"/>
</geometry>
</collision>
<inertial>
<origin xyz="2.2113336099865841857e-17 1.2123729593000175579e-17 0.014449537723063706277" rpy="0 0 0"/>
<mass value="0.025071164350844329233" />
<inertia ixx="1.1501235831482548903e-05" ixy="-1.5961171039694728312e-22"  ixz="-5.890081839730609963e-22" iyy="1.1501235831482548903e-05" iyz="-3.1922342079389461325e-22" izz="9.3089707729088871089e-06" />
</inertial>
</link>

<link name="link_wrist_end">
<visual>
<origin xyz="1.6479873021779667397e-17 0.058800000000000032796 0.062699999999999977973" rpy="-3.141592653589793116 5.2041704279304220536e-18 2.0816681711721688214e-17" />
<geometry>
<mesh filename="package://nashbot/description/link_wrist_end.stl"/>
</geometry>
<material name="link_wrist_end_material">
<color rgba="0.43137254901960786491 0.03529411764705882304 0.03529411764705882304 1.0"/>
</material>
</visual>
<collision>
<origin xyz="1.6479873021779667397e-17 0.058800000000000032796 0.062699999999999977973" rpy="-3.141592653589793116 5.2041704279304220536e-18 2.0816681711721688214e-17" />
<geometry>
<mesh filename="package://nashbot/description/link_wrist_end.stl"/>
</geometry>
</collision>
<inertial>
<origin xyz="-8.1339125606766636135e-18 6.2450045135165055399e-17 -0.035699669196255320869" rpy="0 0 0"/>
<mass value="0.025188988321725475084" />
<inertia ixx="1.1192763951990887945e-05" ixy="-3.2991314786181069241e-12"  ixz="-1.1019337441109085002e-22" iyy="1.4169488963554020868e-05" iyz="7.8656466189472844109e-22" izz="9.9812526945634160054e-06" />
</inertial>
</link>

<link name="link_servo_mg_3">
<visual>
<origin xyz="-1.3877787807814456755e-17 -0.010149999999999992362 -0.040699999999999993128" rpy="1.570796326794896558 -0 -2.7755575615628913511e-17" />
<geometry>
<mesh filename="package://nashbot/description/link_servo_mg.stl"/>
</geometry>
<material name="link_servo_mg_material">
<color rgba="0.79607843137254896693 0.82352941176470584317 0.9372549019607843146 1.0"/>
</material>
</visual>
<collision>
<origin xyz="-1.3877787807814456755e-17 -0.010149999999999992362 -0.040699999999999993128" rpy="1.570796326794896558 -0 -2.7755575615628913511e-17" />
<geometry>
<mesh filename="package://nashbot/description/link_servo_mg.stl"/>
</geometry>
</collision>
<inertial>
<origin xyz="-1.574869160686866358e-11 -0.0098853236649197231273 -0.021094633430604796398" rpy="0 0 0"/>
<mass value="0.26063138106081079615" />
<inertia ixx="7.0719662757425395382e-05" ixy="3.4286267441838930272e-12"  ixz="7.5224114922896799854e-13" iyy="4.2001447207912337217e-05" iyz="-4.6721488492824095509e-07" izz="4.6556191039109613792e-05" />
</inertial>
</link>

<link name="link_arm_wrist2">
<visual>
<origin xyz="-0.0081956442445516031192 -0.015000000000000013323 3.6429192995512948983e-17" rpy="-1.570796326794896558 -1.570796326794896558 0" />
<geometry>
<mesh filename="package://nashbot/description/link_arm_wrist2.stl"/>
</geometry>
<material name="link_arm_wrist2_material">
<color rgba="0 0 0 1.0"/>
</material>
</visual>
<collision>
<origin xyz="-0.0081956442445516031192 -0.015000000000000013323 3.6429192995512948983e-17" rpy="-1.570796326794896558 -1.570796326794896558 0" />
<geometry>
<mesh filename="package://nashbot/description/link_arm_wrist2.stl"/>
</geometry>
</collision>
<inertial>
<origin xyz="0.016700123807499960005 -1.7347234759768070944e-17 -0.013174576908349956358" rpy="0 0 0"/>
<mass value="0.015568413400768565599" />
<inertia ixx="2.8947018419545894105e-06" ixy="3.4538464036763684662e-22"  ixz="4.3720521415610781858e-22" iyy="6.2218965506367282921e-06" iyz="-8.6346160091909211655e-23" izz="5.704962576765599405e-06" />
</inertial>
</link>

<link name="link_servo_mg_4">
<visual>
<origin xyz="6.0715321659188248304e-18 -0.010149999999999992362 -0.040699999999999958433" rpy="1.570796326794896558 8.8470897274817161815e-17 2.0816681711721685133e-17" />
<geometry>
<mesh filename="package://nashbot/description/link_servo_mg.stl"/>
</geometry>
<material name="link_servo_mg_material">
<color rgba="0.79607843137254896693 0.82352941176470584317 0.9372549019607843146 1.0"/>
</material>
</visual>
<collision>
<origin xyz="6.0715321659188248304e-18 -0.010149999999999992362 -0.040699999999999958433" rpy="1.570796326794896558 8.8470897274817161815e-17 2.0816681711721685133e-17" />
<geometry>
<mesh filename="package://nashbot/description/link_servo_mg.stl"/>
</geometry>
</collision>
<inertial>
<origin xyz="-1.5748671763251479842e-11 -0.009885323664919724862 -0.021094633430604758234" rpy="0 0 0"/>
<mass value="0.26063138106081079615" />
<inertia ixx="7.0719662757425395382e-05" ixy="3.4286267470384509119e-12"  ixz="7.5224114273653369644e-13" iyy="4.2001447207912337217e-05" iyz="-4.6721488492824275504e-07" izz="4.6556191039109627344e-05" />
</inertial>
</link>

<link name="link_armlast">
<visual>
<origin xyz="-0.067800000000000026912 -0.052099999999999979661 -0.0099999999999999533706" rpy="2.7755575615628907348e-17 -5.5511151231257827021e-17 0" />
<geometry>
<mesh filename="package://nashbot/description/link_armlast.stl"/>
</geometry>
<material name="link_armlast_material">
<color rgba="0 0 0 1.0"/>
</material>
</visual>
<collision>
<origin xyz="-0.067800000000000026912 -0.052099999999999979661 -0.0099999999999999533706" rpy="2.7755575615628907348e-17 -5.5511151231257827021e-17 0" />
<geometry>
<mesh filename="package://nashbot/description/link_armlast.stl"/>
</geometry>
</collision>
<inertial>
<origin xyz="-2.7755575615628913511e-17 1.3739009929736313605e-17 -0.004999999999999947195" rpy="0 0 0"/>
<mass value="0.023029890215175791157" />
<inertia ixx="3.9323633187538940061e-06" ixy="-2.1829001488359829114e-22"  ixz="6.3356311600789694003e-22" iyy="3.9323633187538931591e-06" iyz="-9.8491543120350155361e-23" izz="7.4808951339215276415e-06" />
</inertial>
</link>

<link name="link_armlast2">
<visual>
<origin xyz="0 0.039377543023228656072 -0.0099999999999998978595" rpy="3.141592653589793116 -1.3877787807814459837e-17 -5.5511151231257839347e-17" />
<geometry>
<mesh filename="package://nashbot/description/link_armlast2.stl"/>
</geometry>
<material name="link_armlast2_material">
<color rgba="0 0 0 1.0"/>
</material>
</visual>
<collision>
<origin xyz="0 0.039377543023228656072 -0.0099999999999998978595" rpy="3.141592653589793116 -1.3877787807814459837e-17 -5.5511151231257839347e-17" />
<geometry>
<mesh filename="package://nashbot/description/link_armlast2.stl"/>
</geometry>
</collision>
<inertial>
<origin xyz="-0.00014555987386932945802 0.019503451012020216193 -0.014921554357495247015" rpy="0 0 0"/>
<mass value="0.029673683675562941703" />
<inertia ixx="7.3602844417827950914e-06" ixy="7.5902875859938789224e-08"  ixz="-7.8976009724050918232e-09" iyy="5.7274656336930202964e-06" iyz="2.5641225521593043518e-07" izz="1.2375128664453365182e-05" />
</inertial>
</link>

<link name="link_cam_v2.1_v1">
<visual>
<origin xyz="8.069159212981125151e-05 0 -1.1102230246251565404e-16" rpy="1.57079632679489678 1.570796326794896558 0" />
<geometry>
<mesh filename="package://nashbot/description/link_cam_v2.1_v1.stl"/>
</geometry>
<material name="link_cam_v2.1_v1_material">
<color rgba="0.76862745098039220171 0.88627450980392152857 0.95294117647058818044 1.0"/>
</material>
</visual>
<collision>
<origin xyz="8.069159212981125151e-05 0 -1.1102230246251565404e-16" rpy="1.57079632679489678 1.570796326794896558 0" />
<geometry>
<mesh filename="package://nashbot/description/link_cam_v2.1_v1.stl"/>
</geometry>
</collision>
<inertial>
<origin xyz="-0.00030854614512971779679 -6.5697214281532965541e-05 -0.0013912718489255051103" rpy="0 0 0"/>
<mass value="0.00099893693584445376193" />
<inertia ixx="3.7977907253365995162e-08" ixy="4.9719888753987388625e-10"  ixz="-1.209374404862548442e-09" iyy="4.0322453945985735796e-08" iyz="-3.6890046530505063e-11" izz="7.3699524745787600661e-08" />
</inertial>
</link>

<joint name="arm_camera" type="fixed">
<origin xyz="2.7755575615628913511e-17 0.041864549620449442724 -0.019999999999999684697" rpy="-2.1677104555805458855e-14 -1.1102230246251333676e-16 -1.57079632679489678" />
<parent link="link_armlast2" />
<child link="link_cam_v2.1_v1" />
<axis xyz="0 0 1"/>
<limit effort="1" velocity="20" />
<joint_properties friction="0.0"/>
</joint>

<link name="link_gripper_base">
<visual>
<origin xyz="0.0010106399173739344377 -5.5511151231257827021e-17 0" rpy="3.141592653589793116 2.7755575615628913511e-17 -5.5511151231257827021e-17" />
<geometry>
<mesh filename="package://nashbot/description/link_gripper_base.stl"/>
</geometry>
<material name="link_gripper_base_material">
<color rgba="0 0 0 1.0"/>
</material>
</visual>
<collision>
<origin xyz="0.0010106399173739344377 -5.5511151231257827021e-17 0" rpy="3.141592653589793116 2.7755575615628913511e-17 -5.5511151231257827021e-17" />
<geometry>
<mesh filename="package://nashbot/description/link_gripper_base.stl"/>
</geometry>
</collision>
<inertial>
<origin xyz="-1.4961989980299961189e-17 -5.4940032210872462574e-17 -0.0069297805081913665601" rpy="0 0 0"/>
<mass value="0.036747347475539239581" />
<inertia ixx="5.8804638877249084129e-06" ixy="-1.2732298443132070931e-11"  ixz="3.1219605129330690096e-22" iyy="3.0748411790400827866e-05" iyz="-8.5343951511669356469e-22" izz="3.4256998635190165044e-05" />
</inertial>
</link>

<link name="link_gripper">
<visual>
<origin xyz="0.0063797864131628911899 0.007999999999999118927 0.067589360082626032122" rpy="1.570796326794896558 1.570796326794896336 0" />
<geometry>
<mesh filename="package://nashbot/description/link_gripper.stl"/>
</geometry>
<material name="link_gripper_material">
<color rgba="0.46666666666666667407 0.031372549019607842702 0.031372549019607842702 1.0"/>
</material>
</visual>
<collision>
<origin xyz="0.0063797864131628911899 0.007999999999999118927 0.067589360082626032122" rpy="1.570796326794896558 1.570796326794896336 0" />
<geometry>
<mesh filename="package://nashbot/description/link_gripper.stl"/>
</geometry>
</collision>
<inertial>
<origin xyz="0.0064564892274438998032 -0.024483836011206787375 -0.0013349685071327166419" rpy="0 0 0"/>
<mass value="0.0098904205224396510299" />
<inertia ixx="1.9782750790334964406e-06" ixy="-2.9164087861664581792e-10"  ixz="1.3591546205473668186e-11" iyy="4.4420442934348445262e-07" iyz="3.8501196536484501492e-08" izz="2.3314691895508784399e-06" />
</inertial>
</link>

<joint name="gripper_slider2" type="prismatic">
<origin xyz="-0.0049999999671311301519 -0.0063797864131628911899 -0.010499999999998954614" rpy="1.5707963267949074382 -4.0245584642662129694e-15 1.5707963267948952257" />
<parent link="link_gripper_base" />
<child link="link_gripper" />
<axis xyz="0 0 1"/>
<limit effort="1" velocity="20" lower="-0.027000000000000003164" upper="-0.0020000000000000001041"/>
<joint_properties friction="0.0"/>
</joint>

<link name="link_gripper_2">
<visual>
<origin xyz="-0.006379786413162946701 0.0079999999999988968824 0.067589360082626046" rpy="1.57079632679489678 1.570796326794896336 0" />
<geometry>
<mesh filename="package://nashbot/description/link_gripper.stl"/>
</geometry>
<material name="link_gripper_material">
<color rgba="0.46666666666666667407 0.031372549019607842702 0.031372549019607842702 1.0"/>
</material>
</visual>
<collision>
<origin xyz="-0.006379786413162946701 0.0079999999999988968824 0.067589360082626046" rpy="1.57079632679489678 1.570796326794896336 0" />
<geometry>
<mesh filename="package://nashbot/description/link_gripper.stl"/>
</geometry>
</collision>
<inertial>
<origin xyz="-0.0063030835988819476287 -0.02448383601120700942 -0.0013349685071327027641" rpy="0 0 0"/>
<mass value="0.0098904205224396510299" />
<inertia ixx="1.9782750790334964406e-06" ixy="-2.9164087861684889076e-10"  ixz="1.3591546205733609693e-11" iyy="4.4420442934348455849e-07" iyz="3.8501196536484302969e-08" izz="2.3314691895508784399e-06" />
</inertial>
</link>

<joint name="gripper_slider1" type="prismatic">
<origin xyz="0.0050000190455400661538 -0.0063797864131631132345 -0.010499999999998954614" rpy="1.570796326794896558 7.8825834748385956598e-15 -1.5707963267948956698" />
<parent link="link_gripper_base" />
<child link="link_gripper_2" />
<axis xyz="0 0 1"/>
<limit effort="1" velocity="20" lower="-0.027000000000000003164" upper="-0.0020000000000000001041"/>

<mimic joint="gripper_slider2" multiplier="1.0" offset="0.0"/>
<joint_properties friction="0.0"/>


</joint>

<joint name="gripper_lastlink" type="fixed">
<origin xyz="2.7755575615628913511e-17 0.014777543023228589814 -0.019999999999999906741" rpy="7.2997163869102196598e-15 1.3877787807814109163e-16 -3.141592653589793116" />
<parent link="link_armlast2" />
<child link="link_gripper_base" />
<axis xyz="0 0 1"/>
<limit effort="1" velocity="20" />
<joint_properties friction="0.0"/>
</joint>

<joint name="lastlink_aux" type="fixed">
<origin xyz="-5.5511151231257827021e-17 -0.014777543023228534302 -0.010000000000000064393" rpy="7.7715611723761204349e-16 -1.3739009929736324021e-15 0" />
<parent link="link_armlast" />
<child link="link_armlast2" />
<axis xyz="0 0 1"/>
<limit effort="1" velocity="20" />
<joint_properties friction="0.0"/>
</joint>

<joint name="wrist3" type="revolute">
<origin xyz="2.8622937353617317058e-17 1.6653345369377348106e-16 0.0040499999999998870237" rpy="-3.1415926535897913396 -2.1024848528839129176e-14 0.39282862773488136376" />
<parent link="link_servo_mg_4" />
<child link="link_armlast" />
<axis xyz="0 0 1"/>
<limit effort="1" velocity="20" lower="-2.0943951023931952626" upper="2.0943951023931952626"/>
<joint_properties friction="0.0"/>
</joint>

<joint name="servo2_wrist3" type="fixed">
<origin xyz="0.03854382224380958899 0 -0.013174576908349958093" rpy="1.6653345369377022701e-16 1.5707963267948912289 0" />
<parent link="link_arm_wrist2" />
<child link="link_servo_mg_4" />
<axis xyz="0 0 1"/>
<limit effort="1" velocity="20" />
<joint_properties friction="0.0"/>
</joint>

<joint name="wrist2" type="revolute">
<origin xyz="-1.1102230246251565404e-16 4.4408920985006261617e-16 0.0065499999999974085896" rpy="3.141592653589793116 -3.3480163086352534694e-15 1.0635136700377485486" />
<parent link="link_servo_mg_3" />
<child link="link_arm_wrist2" />
<axis xyz="0 0 1"/>
<limit effort="1" velocity="20" lower="-1.570796326794896558" upper="1.570796326794896558"/>
<joint_properties friction="0.0"/>
</joint>

<joint name="servo_wrist2" type="fixed">
<origin xyz="0.020000000000000048989 2.7755575615628913511e-17 -0.062034498560428752434" rpy="-1.57079632679489678 2.2204460492503120948e-16 1.57079632679489678" />
<parent link="link_wrist_end" />
<child link="link_servo_mg_3" />
<axis xyz="0 0 1"/>
<limit effort="1" velocity="20" />
<joint_properties friction="0.0"/>
</joint>

<joint name="wrist1_link2" type="fixed">
<origin xyz="6.0715321659188248304e-18 -4.1633363423443370266e-17 -0.0070499999999998896882" rpy="3.1918911957974047287e-15 -1.9081958235745149209e-16 -4.8572257327351288897e-17" />
<parent link="link_wrist_base" />
<child link="link_wrist_end" />
<axis xyz="0 0 1"/>
<limit effort="1" velocity="20" />
<joint_properties friction="0.0"/>
</joint>

<joint name="motor_wrist2_coupler" type="fixed">
<origin xyz="1.3877787807814456755e-17 1.9081958235744878039e-17 -0.0039999999999998925304" rpy="-1.3600232051658128177e-15 -1.075528555105610168e-16 -1.57079632679489678" />
<parent link="link_motor_horn" />
<child link="link_wrist_base" />
<axis xyz="0 0 1"/>
<limit effort="1" velocity="20" />
<joint_properties friction="0.0"/>
</joint>

<joint name="wrist1" type="revolute">
<origin xyz="1.1492543028346347e-16 9.7144514654701197287e-17 0.041674999999999962075" rpy="-3.1415926535897726879 3.1086244689504245081e-15 -1.6211724080414808835" />
<parent link="link_planetary_gear_motor_5" />
<child link="link_motor_horn" />
<axis xyz="0 0 1"/>
<limit effort="1" velocity="20" lower="-2.0943951023931952626" upper="2.0943951023931952626"/>
<joint_properties friction="0.0"/>
</joint>

<joint name="link3_motor" type="fixed">
<origin xyz="-1.3877787807814456755e-17 0.019050000000000011369 0.01600000000000002115" rpy="-1.5707963267948972241 1.570796326794896336 0" />
<parent link="link_wrist_mid" />
<child link="link_planetary_gear_motor_5" />
<axis xyz="0 0 1"/>
<limit effort="1" velocity="20" />
<joint_properties friction="0.0"/>
</joint>

<joint name="link3_fix_wrist" type="fixed">
<origin xyz="2.7755575615628913511e-17 -0.11999999999999999556 -5.2041704279304212832e-17" rpy="-3.1415926535897789051 7.1840615370227320013e-16 -5.5511151231258061214e-17" />
<parent link="link_arm4" />
<child link="link_wrist_mid" />
<axis xyz="0 0 1"/>
<limit effort="1" velocity="20" />
<joint_properties friction="0.0"/>
</joint>

<joint name="elbow" type="revolute">
<origin xyz="-1.3877787807814456755e-17 -0.13846826553344726562 -0.0090000000000012569945" rpy="4.4665167253899272883e-15 1.553727326119394013e-15 -0.10254325014991327869" />
<parent link="link_arm3" />
<child link="link_arm4" />
<axis xyz="0 0 1"/>
<limit effort="1" velocity="20" lower="-2.0943951023931952626" upper="2.0943951023931952626"/>
<joint_properties friction="0.0"/>
</joint>

<link name="link_planetary_gear_motor_6">
<visual>
<origin xyz="-5.5511151231257827021e-17 2.7755575615628913511e-17 -0.026817798965425739682" rpy="1.570796326794896558 1.570796326794896558 0" />
<geometry>
<mesh filename="package://nashbot/description/link_planetary_gear_motor.stl"/>
</geometry>
<material name="link_planetary_gear_motor_material">
<color rgba="0.58823529411764707842 0.58823529411764707842 0.6313725490196078205 1.0"/>
</material>
</visual>
<collision>
<origin xyz="-5.5511151231257827021e-17 2.7755575615628913511e-17 -0.026817798965425739682" rpy="1.570796326794896558 1.570796326794896558 0" />
<geometry>
<mesh filename="package://nashbot/description/link_planetary_gear_motor.stl"/>
</geometry>
</collision>
<inertial>
<origin xyz="4.6360108457215042468e-11 8.8798397602098779368e-07 -0.02900051884052945797" rpy="0 0 0"/>
<mass value="0.16371460908246579513" />
<inertia ixx="4.941221582582506713e-05" ixy="3.9662144238538075206e-13"  ixz="-2.6336340539918869727e-13" iyy="4.9418313465302970153e-05" iyz="-5.6989714436445830304e-09" izz="9.4495347188306969184e-06" />
</inertial>
</link>

<joint name="servo" type="fixed">
<origin xyz="4.1633363423443370266e-17 -0.13846826553344726562 -0.050000000000000044409" rpy="1.5535570332398524153e-16 -1.4217996905493939005e-14 1.570796326794896558" />
<parent link="link_arm3" />
<child link="link_planetary_gear_motor_6" />
<axis xyz="0 0 1"/>
<limit effort="1" velocity="20" />
<joint_properties friction="0.0"/>
</joint>

<link name="link_planetary_gear_motor_7">
<visual>
<origin xyz="0 1.3877787807814456755e-17 -0.02681779896542575703" rpy="1.570796326794896558 1.570796326794896558 0" />
<geometry>
<mesh filename="package://nashbot/description/link_planetary_gear_motor.stl"/>
</geometry>
<material name="link_planetary_gear_motor_material">
<color rgba="0.58823529411764707842 0.58823529411764707842 0.6313725490196078205 1.0"/>
</material>
</visual>
<collision>
<origin xyz="0 1.3877787807814456755e-17 -0.02681779896542575703" rpy="1.570796326794896558 1.570796326794896558 0" />
<geometry>
<mesh filename="package://nashbot/description/link_planetary_gear_motor.stl"/>
</geometry>
</collision>
<inertial>
<origin xyz="4.636016412779712315e-11 8.8798397600708078324e-07 -0.029000518840529471848" rpy="0 0 0"/>
<mass value="0.16371460908246579513" />
<inertia ixx="4.9412215825825080682e-05" ixy="3.9662144101416339005e-13"  ixz="-2.633634113321714282e-13" iyy="4.9418313465302970153e-05" iyz="-5.6989714436440834133e-09" izz="9.4495347188306969184e-06" />
</inertial>
</link>

<joint name="pmotor2_fixed" type="fixed">
<origin xyz="-1.3877787807814456755e-17 -0.13846826553344726562 -1.3877787807814456755e-17" rpy="-3.141592653589793116 -1.7367564398556450549e-16 1.570796326794896558" />
<parent link="link_arm3" />
<child link="link_planetary_gear_motor_7" />
<axis xyz="0 0 1"/>
<limit effort="1" velocity="20" />
<joint_properties friction="0.0"/>
</joint>

<joint name="shoulder" type="revolute">
<origin xyz="-0.033380152669139837029 0.02500000000000080283 -0.066448956727981595138" rpy="1.5707963267948921171 -1.4353143270888701899 -3.1415926535897829019" />
<parent link="link_arm2" />
<child link="link_arm3" />
<axis xyz="0 0 1"/>
<limit effort="1" velocity="20" lower="-2.0943951023931952626" upper="1.2217304763960306069"/>
<joint_properties friction="0.0"/>
</joint>

<link name="link_wormgearmotor_3">
<visual>
<origin xyz="0 -1.3877787807814456755e-17 0.013699999999999986494" rpy="-1.57079632679489678 7.3893624031689905257e-16 5.5511151231257827021e-17" />
<geometry>
<mesh filename="package://nashbot/description/link_wormgearmotor.stl"/>
</geometry>
<material name="link_wormgearmotor_material">
<color rgba="0.91764705882352937127 0.91764705882352937127 0.91764705882352937127 1.0"/>
</material>
</visual>
<collision>
<origin xyz="0 -1.3877787807814456755e-17 0.013699999999999986494" rpy="-1.57079632679489678 7.3893624031689905257e-16 5.5511151231257827021e-17" />
<geometry>
<mesh filename="package://nashbot/description/link_wormgearmotor.stl"/>
</geometry>
</collision>
<inertial>
<origin xyz="0.012275831121147504424 0.00018146365526524449712 -0.012748993109794095821" rpy="0 0 0"/>
<mass value="0.2858675528412418787" />
<inertia ixx="3.6344599448181403776e-05" ixy="-2.2893917968346014069e-06"  ixz="4.1274865069703904261e-06" iyy="0.00011286967916682720851" iyz="-6.3114747963257648439e-08" izz="0.00012232130776055024951" />
</inertial>
</link>

<joint name="wormotor2_fixed" type="fixed">
<origin xyz="-0.033380152669139920296 0.044999999999999998335 -0.066448956727981595138" rpy="1.5707963267948976682 -0.34906585039886567357 9.2342611865096786399e-17" />
<parent link="link_arm2" />
<child link="link_wormgearmotor_3" />
<axis xyz="0 0 1"/>
<limit effort="1" velocity="20" />
<joint_properties friction="0.0"/>
</joint>

<joint name="arm_base_top_mount" type="fixed">
<origin xyz="1.3877787807814456755e-17 5.2041704279304212832e-18 -0.0049999999999999905631" rpy="-4.7523348266081185674e-17 -4.7545853266420812192e-17 3.1415926535897926719" />
<parent link="link_arm1_top_mount" />
<child link="link_arm2" />
<axis xyz="0 0 1"/>
<limit effort="1" velocity="20" />
<joint_properties friction="0.0"/>
</joint>

<joint name="inner_bearing_top_mount" type="fixed">
<origin xyz="-1.0269562977782697999e-15 2.8622937353617317058e-17 -0.0074999999999999719669" rpy="1.9828452313990001816e-18 1.302483993487112669e-18 2.7755575615628538802e-16" />
<parent link="link_arm1_bearing" />
<child link="link_arm1_top_mount" />
<axis xyz="0 0 1"/>
<limit effort="1" velocity="20" />
<joint_properties friction="0.0"/>
</joint>

<joint name="base_bearing" type="revolute">
<origin xyz="-7.6327832942979512154e-17 -0.067724570631980798852 -0.015000000000000020262" rpy="-4.1079776914178391981e-22 -3.6499615568547588071e-17 1.8540534590536739135" />
<parent link="link_arm1" />
<child link="link_arm1_bearing" />
<axis xyz="0 0 1"/>
<limit effort="1" velocity="20" lower="-2.0943951023931952626" upper="2.0943951023931952626"/>
<joint_properties friction="0.0"/>
</joint>

<joint name="arm_lowermost_bearing" type="fixed">
<origin xyz="-6.9388939039072283776e-18 0.067724570631980882118 -0.012500000000000170697" rpy="1.0560604332947878811e-16 -0 -5.5511151231244989543e-17" />
<parent link="link_arm1_base" />
<child link="link_arm1" />
<axis xyz="0 0 1"/>
<limit effort="1" velocity="20" />
<joint_properties friction="0.0"/>
</joint>

<joint name="wormotor1_fixed" type="fixed">
<origin xyz="3.442956469176805534e-05 -9.5955306764913816941e-05 -0.0091999999999999755584" rpy="-3.2747661034511961278e-16 8.2220102522426096915e-16 -3.141592653589793116" />
<parent link="link_wormgearmotor" />
<child link="link_arm1_base" />
<axis xyz="0 0 1"/>
<limit effort="1" velocity="20" />
<joint_properties friction="0.0"/>
</joint>

<joint name="worm1_armplate" type="fixed">
<origin xyz="4.1633363423443370266e-17 1.3877787807814456755e-17 -0.0099999999999999082678" rpy="-5.6472276733811738881e-16 -1.1799182869416098514e-16 3.141592653589793116" />
<parent link="link_arm_mount_base" />
<child link="link_wormgearmotor" />
<axis xyz="0 0 1"/>
<limit effort="1" velocity="20" />
<joint_properties friction="0.0"/>
</joint>

<link name="link_generic_mount">
<visual>
<origin xyz="0 -0.0085253454744815826416 -0.0034966013156944725226" rpy="1.570796326794896558 -0 1.8168000515204455848e-44" />
<geometry>
<mesh filename="package://nashbot/description/link_generic_mount.stl"/>
</geometry>
<material name="link_generic_mount_material">
<color rgba="0.64705882352941179736 0.64705882352941179736 0.64705882352941179736 1.0"/>
</material>
</visual>
<collision>
<origin xyz="0 -0.0085253454744815826416 -0.0034966013156944725226" rpy="1.570796326794896558 -0 1.8168000515204455848e-44" />
<geometry>
<mesh filename="package://nashbot/description/link_generic_mount.stl"/>
</geometry>
</collision>
<inertial>
<origin xyz="-3.2573919821171023598e-18 -0.0077056887370188734826 -0.0073838757633802503191" rpy="0 0 0"/>
<mass value="0.003461874762680981505" />
<inertia ixx="4.8352833034173985606e-07" ixy="7.9134194011797904766e-51"  ixz="2.190413072893522005e-52" iyy="5.9968529205834358962e-07" iyz="-1.5075438945064520127e-07" izz="6.0013261029650685376e-07" />
</inertial>
</link>

<link name="link_cam_v2.1_v1_2">
<visual>
<origin xyz="8.0691592129873701555e-05 0 0" rpy="1.570796326794896558 1.570796326794896558 0" />
<geometry>
<mesh filename="package://nashbot/description/link_cam_v2.1_v1.stl"/>
</geometry>
<material name="link_cam_v2.1_v1_material">
<color rgba="0.76862745098039220171 0.88627450980392152857 0.95294117647058818044 1.0"/>
</material>
</visual>
<collision>
<origin xyz="8.0691592129873701555e-05 0 0" rpy="1.570796326794896558 1.570796326794896558 0" />
<geometry>
<mesh filename="package://nashbot/description/link_cam_v2.1_v1.stl"/>
</geometry>
</collision>
<inertial>
<origin xyz="-0.00030854614512965534675 -6.5697214281533006198e-05 -0.0013912718489253943048" rpy="0 0 0"/>
<mass value="0.00099893693584445376193" />
<inertia ixx="3.7977907253365995162e-08" ixy="4.971988875398759542e-10"  ixz="-1.2093744048625507167e-09" iyy="4.0322453945985735796e-08" iyz="-3.6890046530505256871e-11" izz="7.3699524745787627131e-08" />
</inertial>
</link>

<joint name="camera_front" type="fixed">
<origin xyz="-2.7755575615628913511e-17 -0.015125345474481577401 -0.015851898188250456573" rpy="-1.57079632679489678 1.570796326794896558 0" />
<parent link="link_generic_mount" />
<child link="link_cam_v2.1_v1_2" />
<axis xyz="0 0 1"/>
<limit effort="1" velocity="20" />
<joint_properties friction="0.0"/>
</joint>

<joint name="camera_front_mount" type="fixed">
<origin xyz="-3.4256714071673188826e-06 0.086666588097217348019 -0.01000000000000027256" rpy="-1.3550772563145184417e-16 -2.8746819834257579446e-17 -3.141592653589793116" />
<parent link="link_arm_mount_base" />
<child link="link_generic_mount" />
<axis xyz="0 0 1"/>
<limit effort="1" velocity="20" />
<joint_properties friction="0.0"/>
</joint>

<joint name="armplate_baseplate" type="fixed">
<origin xyz="-0.033679080195723867797 -0.10384444065391673639 0.0099999999999997851025" rpy="3.141592653589793116 -4.2598488881935332536e-29 -2.6303198217458827823e-28" />
<parent link="link_base" />
<child link="link_arm_mount_base" />
<axis xyz="0 0 1"/>
<limit effort="1" velocity="20" />
<joint_properties friction="0.0"/>
</joint>

<link name="link_power_line_mount">
<visual>
<origin xyz="0 -0.0022320933545880161653 0" rpy="3.141592653589793116 -0 -6.9697771112044725216e-59" />
<geometry>
<mesh filename="package://nashbot/description/link_power_line_mount.stl"/>
</geometry>
<material name="link_power_line_mount_material">
<color rgba="0.80784313725490197733 0.18823529411764705621 0.18823529411764705621 1.0"/>
</material>
</visual>
<collision>
<origin xyz="0 -0.0022320933545880161653 0" rpy="3.141592653589793116 -0 -6.9697771112044725216e-59" />
<geometry>
<mesh filename="package://nashbot/description/link_power_line_mount.stl"/>
</geometry>
</collision>
<inertial>
<origin xyz="6.6782829650316102476e-18 0.032759270610845762917 -0.2078410108544833379" rpy="0 0 0"/>
<mass value="0.065027166992509127796" />
<inertia ixx="0.0013033314418726723704" ixy="-7.2116480343772300865e-61"  ixz="-2.5080702543401149744e-61" iyy="0.001012894037334895669" iyz="0.00040303135093734562778" izz="0.0002969455262043463285" />
</inertial>
</link>

<joint name="power_connector" type="fixed">
<origin xyz="-0.038894183933733672554 0.26162940494715314355 0.010000000000000008882" rpy="-3.141592653589793116 -2.2088105346188310933e-29 3.141592653589793116" />
<parent link="link_base" />
<child link="link_power_line_mount" />
<axis xyz="0 0 1"/>
<limit effort="1" velocity="20" />
<joint_properties friction="0.0"/>
</joint>

<link name="link_pdb">
<visual>
<origin xyz="0.010830557091637993405 0.01200666300459239666 -0.0050000000000000009714" rpy="3.141592653589793116 -0 4.4841550858391034762e-44" />
<geometry>
<mesh filename="package://nashbot/description/link_pdb.stl"/>
</geometry>
<material name="link_pdb_material">
<color rgba="0.2313725490196078538 0.38039215686274507888 0.7058823529411765163 1.0"/>
</material>
</visual>
<collision>
<origin xyz="0.010830557091637993405 0.01200666300459239666 -0.0050000000000000009714" rpy="3.141592653589793116 -0 4.4841550858391034762e-44" />
<geometry>
<mesh filename="package://nashbot/description/link_pdb.stl"/>
</geometry>
</collision>
<inertial>
<origin xyz="0.0089345417430400815573 0.012197914813623688193 -0.0087011857386947461662" rpy="0 0 0"/>
<mass value="0.043332218515688546157" />
<inertia ixx="7.6352841054302679854e-06" ixy="6.3232417185123081908e-07"  ixz="8.4216145691135131491e-08" iyy="2.7092073554758923495e-05" iyz="4.6020904909008413192e-07" izz="3.0964301114829621082e-05" />
</inertial>
</link>

<joint name="pwd" type="fixed">
<origin xyz="-0.093481909483668107486 0.14373710822760596417 0.0099999999999999013289" rpy="-3.141592653589793116 -7.8886090522105048125e-29 1.570796326794896558" />
<parent link="link_base" />
<child link="link_pdb" />
<axis xyz="0 0 1"/>
<limit effort="1" velocity="20" />
<joint_properties friction="0.0"/>
</joint>

<link name="link_ultrasonic">
<visual>
<origin xyz="0.00012966108735508463656 -2.2177781799684846697e-05 -0.0019999999999999462652" rpy="3.141592653589793116 -1.2943871777951386993e-58 -5.6051938572992682837e-45" />
<geometry>
<mesh filename="package://nashbot/description/link_ultrasonic.stl"/>
</geometry>
<material name="link_ultrasonic_material">
<color rgba="0.2313725490196078538 0.38039215686274507888 0.7058823529411765163 1.0"/>
</material>
</visual>
<collision>
<origin xyz="0.00012966108735508463656 -2.2177781799684846697e-05 -0.0019999999999999462652" rpy="3.141592653589793116 -1.2943871777951386993e-58 -5.6051938572992682837e-45" />
<geometry>
<mesh filename="package://nashbot/description/link_ultrasonic.stl"/>
</geometry>
</collision>
<inertial>
<origin xyz="5.9966512039370134133e-05 -0.00022027360285508320605 -0.0061279423830743907226" rpy="0 0 0"/>
<mass value="0.00560754301464696462" />
<inertia ixx="2.1025827912388702108e-07" ixy="1.8112596644811024317e-10"  ixz="1.66020087554266314e-09" iyy="1.0945742710726900598e-06" iyz="7.018696944640807063e-10" izz="1.1495527713404586066e-06" />
</inertial>
</link>

<joint name="ultrasonic_back_left" type="fixed">
<origin xyz="0.10110581606626183049 0.29615555934607018518 0.0049999999999996635677" rpy="1.570796326794896558 -4.1020767071493280899e-29 -2.628919677152840782e-28" />
<parent link="link_base" />
<child link="link_ultrasonic" />
<axis xyz="0 0 1"/>
<limit effort="1" velocity="20" />
<joint_properties friction="0.0"/>
</joint>

<link name="link_ultrasonic_2">
<visual>
<origin xyz="0.00012966108735509851435 -2.2177781799684846697e-05 -0.0020000000000000017764" rpy="3.141592653589793116 4.4048459700362242021e-45 0" />
<geometry>
<mesh filename="package://nashbot/description/link_ultrasonic.stl"/>
</geometry>
<material name="link_ultrasonic_material">
<color rgba="0.2313725490196078538 0.38039215686274507888 0.7058823529411765163 1.0"/>
</material>
</visual>
<collision>
<origin xyz="0.00012966108735509851435 -2.2177781799684846697e-05 -0.0020000000000000017764" rpy="3.141592653589793116 4.4048459700362242021e-45 0" />
<geometry>
<mesh filename="package://nashbot/description/link_ultrasonic.stl"/>
</geometry>
</collision>
<inertial>
<origin xyz="5.9966512039384011921e-05 -0.00022027360285508320605 -0.0061279423830744462337" rpy="0 0 0"/>
<mass value="0.00560754301464696462" />
<inertia ixx="2.1025827912388702108e-07" ixy="1.8112596644811024317e-10"  ixz="1.66020087554266314e-09" iyy="1.0945742710726900598e-06" iyz="7.018696944640807063e-10" izz="1.1495527713404586066e-06" />
</inertial>
</link>

<joint name="ultrasonic_back_right" type="fixed">
<origin xyz="-0.17889418393372902294 0.29615555934607018518 0.0049999999999996635677" rpy="1.570796326794896558 -4.2598488881934637492e-29 -2.628919677152840782e-28" />
<parent link="link_base" />
<child link="link_ultrasonic_2" />
<axis xyz="0 0 1"/>
<limit effort="1" velocity="20" />
<joint_properties friction="0.0"/>
</joint>

<link name="link_ultrasonic_3">
<visual>
<origin xyz="0.00012966108735508463656 -2.2177781799684846697e-05 -0.0019999999999999740208" rpy="3.141592653589793116 1.2943871777951807941e-58 0" />
<geometry>
<mesh filename="package://nashbot/description/link_ultrasonic.stl"/>
</geometry>
<material name="link_ultrasonic_material">
<color rgba="0.2313725490196078538 0.38039215686274507888 0.7058823529411765163 1.0"/>
</material>
</visual>
<collision>
<origin xyz="0.00012966108735508463656 -2.2177781799684846697e-05 -0.0019999999999999740208" rpy="3.141592653589793116 1.2943871777951807941e-58 0" />
<geometry>
<mesh filename="package://nashbot/description/link_ultrasonic.stl"/>
</geometry>
</collision>
<inertial>
<origin xyz="5.9966512039370134133e-05 -0.00022027360285508320605 -0.0061279423830744184781" rpy="0 0 0"/>
<mass value="0.00560754301464696462" />
<inertia ixx="2.1025827912388702108e-07" ixy="1.8112596644811024317e-10"  ixz="1.66020087554266314e-09" iyy="1.0945742710726900598e-06" iyz="7.018696944640807063e-10" izz="1.1495527713404586066e-06" />
</inertial>
</link>

<joint name="ultrasonic_front_left" type="fixed">
<origin xyz="0.10110581606626177498 -0.20384444065391355005 0.0049999999999999012248" rpy="-1.570796326794896558 -4.1020767071494620541e-29 -2.6289196771528497503e-28" />
<parent link="link_base" />
<child link="link_ultrasonic_3" />
<axis xyz="0 0 1"/>
<limit effort="1" velocity="20" />
<joint_properties friction="0.0"/>
</joint>

<link name="link_ultrasonic_4">
<visual>
<origin xyz="0.00012966108735507075878 -2.2177781799684846697e-05 -0.0019999999999999740208" rpy="3.141592653589793116 1.2943871777951807941e-58 0" />
<geometry>
<mesh filename="package://nashbot/description/link_ultrasonic.stl"/>
</geometry>
<material name="link_ultrasonic_material">
<color rgba="0.2313725490196078538 0.38039215686274507888 0.7058823529411765163 1.0"/>
</material>
</visual>
<collision>
<origin xyz="0.00012966108735507075878 -2.2177781799684846697e-05 -0.0019999999999999740208" rpy="3.141592653589793116 1.2943871777951807941e-58 0" />
<geometry>
<mesh filename="package://nashbot/description/link_ultrasonic.stl"/>
</geometry>
</collision>
<inertial>
<origin xyz="5.9966512039356256345e-05 -0.00022027360285508320605 -0.0061279423830744184781" rpy="0 0 0"/>
<mass value="0.00560754301464696462" />
<inertia ixx="2.1025827912388702108e-07" ixy="1.8112596644811024317e-10"  ixz="1.66020087554266314e-09" iyy="1.0945742710726900598e-06" iyz="7.018696944640807063e-10" izz="1.1495527713404586066e-06" />
</inertial>
</link>

<joint name="ultrasonic_front_right" type="fixed">
<origin xyz="-0.1788941839337290507 -0.20384444065391355005 0.0049999999999999012248" rpy="-1.570796326794896558 -4.1020767071494620541e-29 -2.6289196771528497503e-28" />
<parent link="link_base" />
<child link="link_ultrasonic_4" />
<axis xyz="0 0 1"/>
<limit effort="1" velocity="20" />
<joint_properties friction="0.0"/>
</joint>

<link name="link_jetson">
<visual>
<origin xyz="0.022709511220455169678 0.005915313959121676346 1.7347234759768070944e-18" rpy="-3.141592653589793116 -0 -4.4343879236786718641e-44" />
<geometry>
<mesh filename="package://nashbot/description/link_jetson.stl"/>
</geometry>
<material name="link_jetson_material">
<color rgba="0.4000000000000000222 0.4000000000000000222 0.4000000000000000222 1.0"/>
</material>
</visual>
<collision>
<origin xyz="0.022709511220455169678 0.005915313959121676346 1.7347234759768070944e-18" rpy="-3.141592653589793116 -0 -4.4343879236786718641e-44" />
<geometry>
<mesh filename="package://nashbot/description/link_jetson.stl"/>
</geometry>
</collision>
<inertial>
<origin xyz="-5.2573597559706780613e-05 -0.001742350972764756048 -0.036149769280231849877" rpy="0 0 0"/>
<mass value="0.37117571580316055524" />
<inertia ixx="0.00073073754205943918481" ixy="2.5522893689043771606e-07"  ixz="-5.1984434020215616075e-07" iyy="0.0013371168998614353218" iyz="-2.3969609250718706088e-05" izz="0.0014640583062437973177" />
</inertial>
</link>

<joint name="jetson" type="fixed">
<origin xyz="0.10316286437116763131 0.21110693215579343085 0.010000000000000008882" rpy="3.141592653589793116 -3.9443045261052524062e-29 -2.6303198217458756076e-28" />
<parent link="link_base" />
<child link="link_jetson" />
<axis xyz="0 0 1"/>
<limit effort="1" velocity="20" />
<joint_properties friction="0.0"/>
</joint>

<link name="link_extension">
<visual>
<origin xyz="0 0 -0.0014000000000000002026" rpy="3.141592653589793116 -0 5.7251740556322475407e-58" />
<geometry>
<mesh filename="package://nashbot/description/link_extension.stl"/>
</geometry>
<material name="link_extension_material">
<color rgba="0.2313725490196078538 0.38039215686274507888 0.7058823529411765163 1.0"/>
</material>
</visual>
<collision>
<origin xyz="0 0 -0.0014000000000000002026" rpy="3.141592653589793116 -0 5.7251740556322475407e-58" />
<geometry>
<mesh filename="package://nashbot/description/link_extension.stl"/>
</geometry>
</collision>
<inertial>
<origin xyz="0.00014465864641230298071 2.4708017073397864933e-06 -0.020180946376631557493" rpy="0 0 0"/>
<mass value="0.14831852342676307699" />
<inertia ixx="0.00025155652498248684632" ixy="1.3403474499437742201e-08"  ixz="1.3834919975133645941e-07" iyy="0.00015621708231545059701" iyz="2.357435576441685143e-09" izz="0.00031838797737509865957" />
</inertial>
</link>

<joint name="extension" type="fixed">
<origin xyz="-0.21589470607041608141 0.24645307473837524403 0.010000000000000076536" rpy="-3.141592653589793116 1.5777218104420230503e-29 1.570796326794896558" />
<parent link="link_base" />
<child link="link_extension" />
<axis xyz="0 0 1"/>
<limit effort="1" velocity="20" />
<joint_properties friction="0.0"/>
</joint>

<link name="link_esp">
<visual>
<origin xyz="1.2881313953133632921e-06 1.2483208127092582096e-05 -0.0010000000000000008882" rpy="0 -0 5.3748535133629008211e-46" />
<geometry>
<mesh filename="package://nashbot/description/link_esp.stl"/>
</geometry>
<material name="link_esp_material">
<color rgba="0.61568627450980395466 0.81176470588235294379 0.92941176470588238168 1.0"/>
</material>
</visual>
<collision>
<origin xyz="1.2881313953133632921e-06 1.2483208127092582096e-05 -0.0010000000000000008882" rpy="0 -0 5.3748535133629008211e-46" />
<geometry>
<mesh filename="package://nashbot/description/link_esp.stl"/>
</geometry>
</collision>
<inertial>
<origin xyz="-0.0001574695097210205251 0.00025741499530198430233 -0.00072744038202916198183" rpy="0 0 0"/>
<mass value="0.0028528946071831604372" />
<inertia ixx="6.5086099387457278922e-07" ixy="-9.6027216809806153195e-09"  ixz="-1.7839489641388105472e-09" iyy="2.3057560984646966764e-07" iyz="-1.0788095161028125891e-08" izz="8.5223101790365565582e-07" />
</inertial>
</link>

<joint name="esp" type="fixed">
<origin xyz="0.034606292843817568206 0.089212568923828047818 0.010000000000000119904" rpy="3.141592653589793116 -4.2598488881936717019e-29 -2.6303198217458904053e-28" />
<parent link="link_base" />
<child link="link_esp" />
<axis xyz="0 0 1"/>
<limit effort="1" velocity="20" />
<joint_properties friction="0.0"/>
</joint>

<link name="link_lidar">
<visual>
<origin xyz="-5.4018801419919437734e-05 -5.4013600163355102168e-05 3.8518598887744717061e-34" rpy="-1.570796326794896558 5.6051938572992682837e-45 -5.3748535133627265766e-46" />
<geometry>
<mesh filename="package://nashbot/description/link_lidar.stl"/>
</geometry>
<material name="link_lidar_material">
<color rgba="0.10196078431372548878 0.10196078431372548878 0.10196078431372548878 1.0"/>
</material>
</visual>
<collision>
<origin xyz="-5.4018801419919437734e-05 -5.4013600163355102168e-05 3.8518598887744717061e-34" rpy="-1.570796326794896558 5.6051938572992682837e-45 -5.3748535133627265766e-46" />
<geometry>
<mesh filename="package://nashbot/description/link_lidar.stl"/>
</geometry>
</collision>
<inertial>
<origin xyz="5.4917592182332843097e-05 -4.3008685495624733369e-05 -0.015279585043616547915" rpy="0 0 0"/>
<mass value="0.046857323820461600772" />
<inertia ixx="8.9415046682800573168e-06" ixy="-1.1545730007381201521e-07"  ixz="-6.1185685497324223017e-08" iyy="8.8579506792684366653e-06" iyz="-6.5107785083496447177e-09" izz="9.6350323049082636345e-06" />
</inertial>
</link>

<joint name="lidar" type="fixed">
<origin xyz="-0.038894183933733589287 -0.16928471393882676965 -6.8151522794832716411e-22" rpy="-1.2617474596943606799e-17 -4.2598488881935332536e-29 -2.6303198217458818854e-28" />
<parent link="link_base" />
<child link="link_lidar" />
<axis xyz="0 0 1"/>
<limit effort="1" velocity="20" />
<joint_properties friction="0.0"/>
</joint>


</robot>
